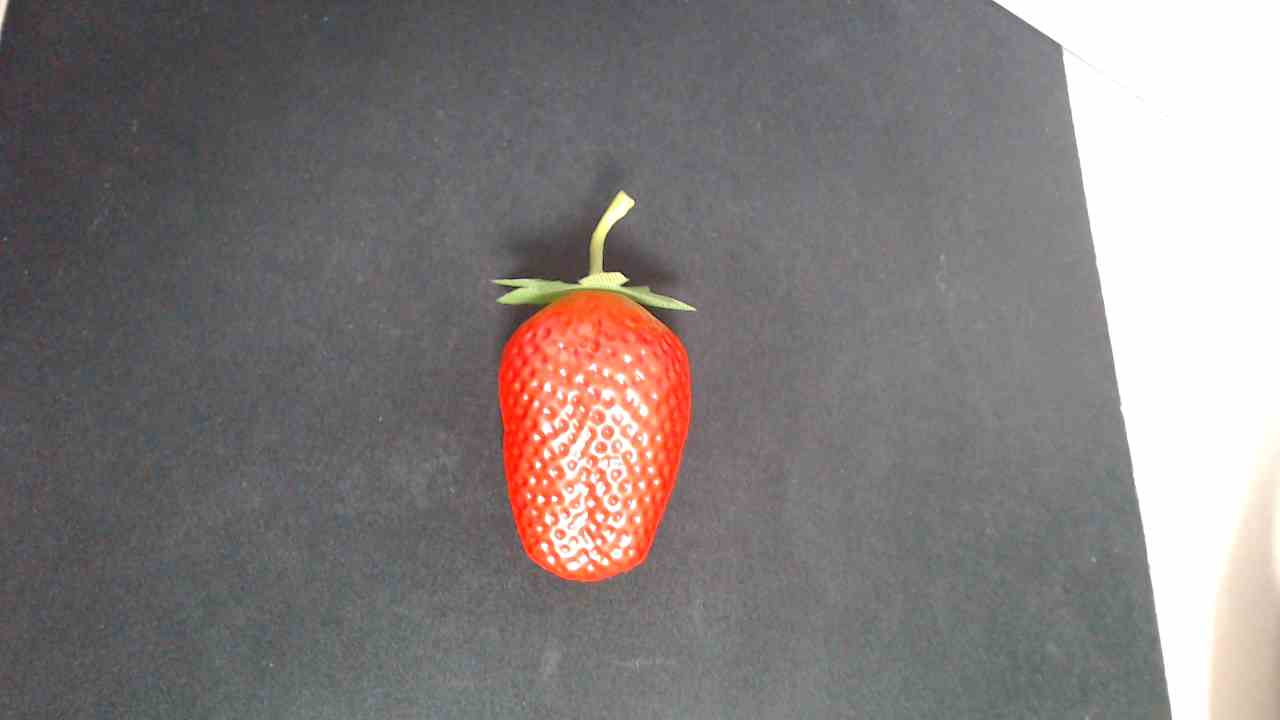strawberry: (494, 276, 694, 589)
